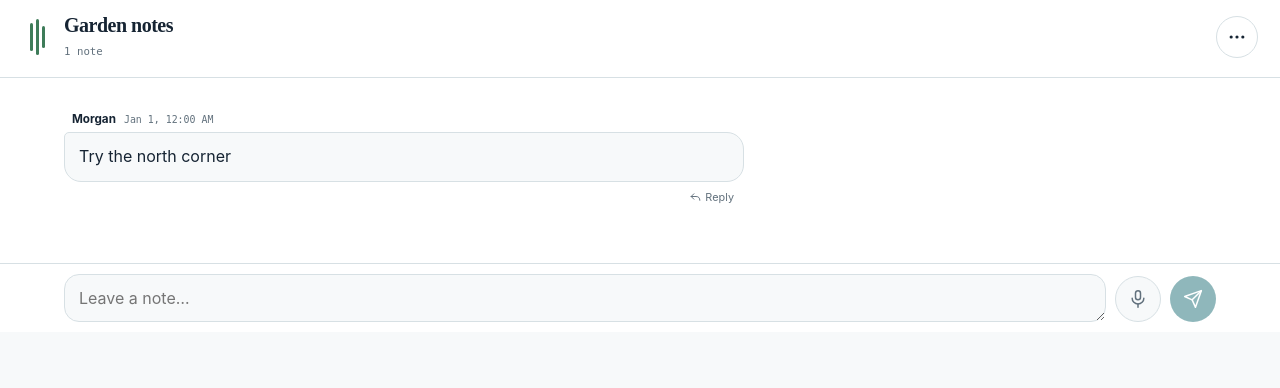
Test case: Conversation › discards a recording instead of sending it, and frees the microphone
What coordinates should you click on to do the following:
click the button named "Record a voice note"
I would click on:
 (1138, 299)
Its box is [1115,276,1161,322].
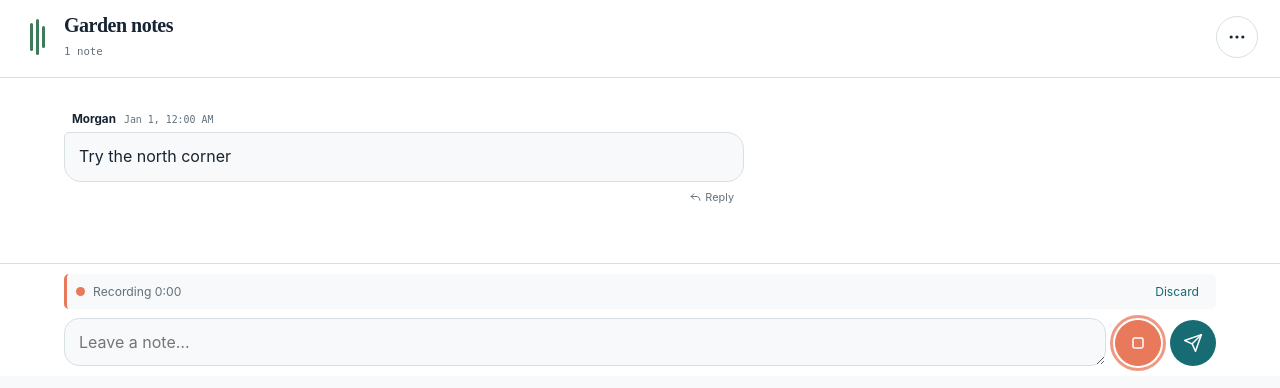
What coordinates should you click on to do the following:
click the button named "Stop recording"
I would click on:
 (1138, 343)
Its box is [1115,320,1161,366].
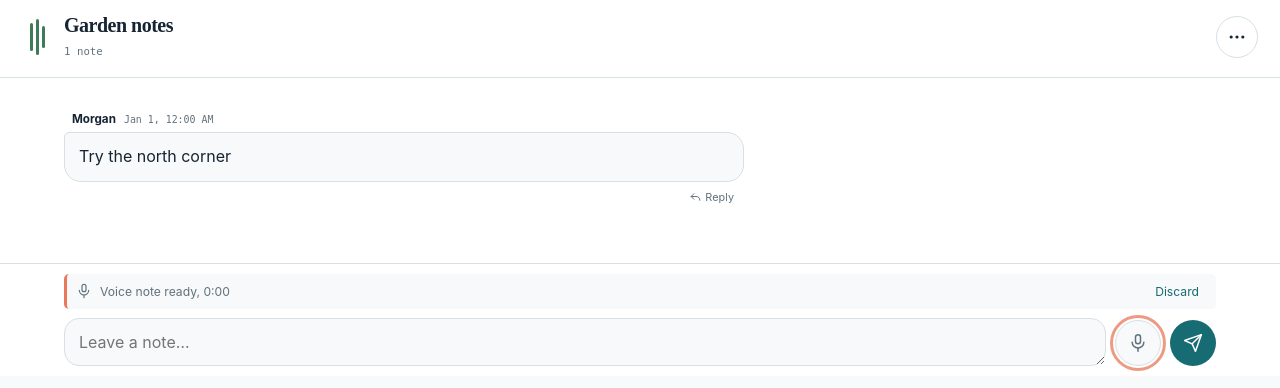
What coordinates should you click on to do the following:
click the button "Discard"
I would click on:
 (1177, 291)
Its box is [1147,281,1207,302].
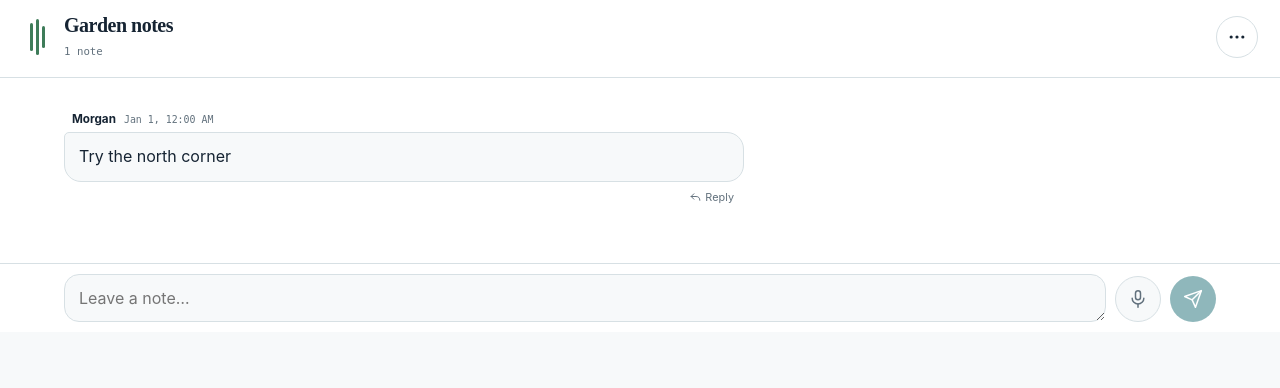
Now the text "Voice note ready" is gone
Now the button named "Send message" is disabled, box [1170,276,1216,322]
